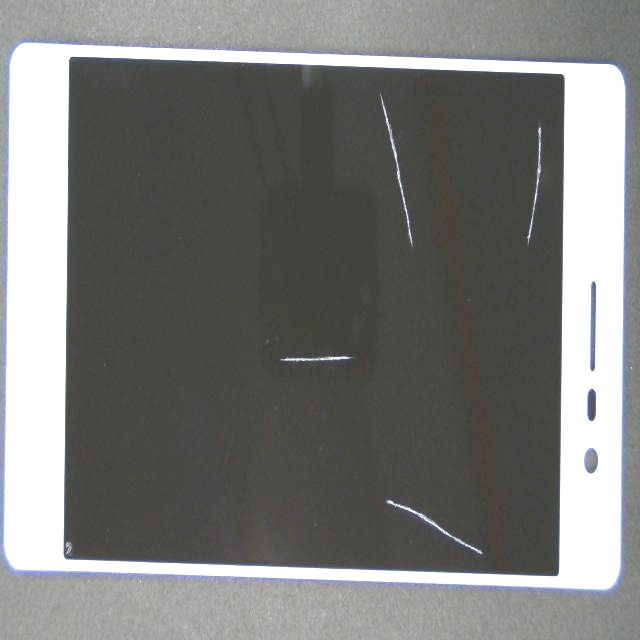scratch: (177, 123, 601, 382), (304, 316, 640, 640), (220, 182, 500, 514), (280, 0, 640, 237)
